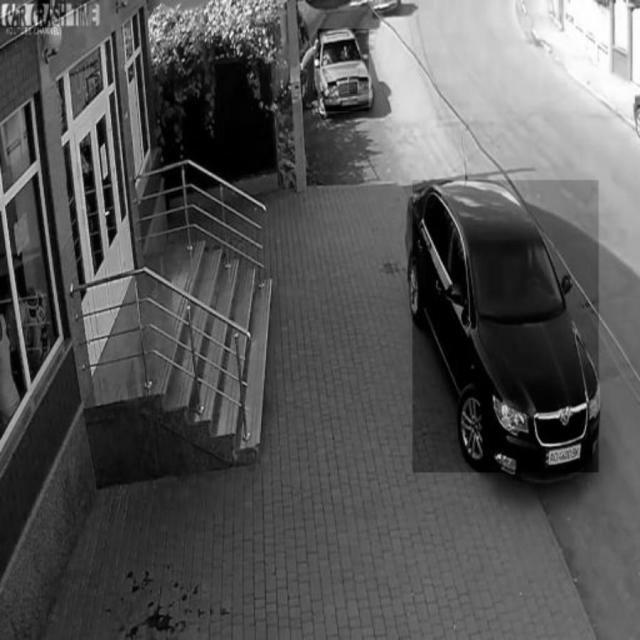vehicle: (413, 181, 599, 473), (318, 28, 369, 110)
